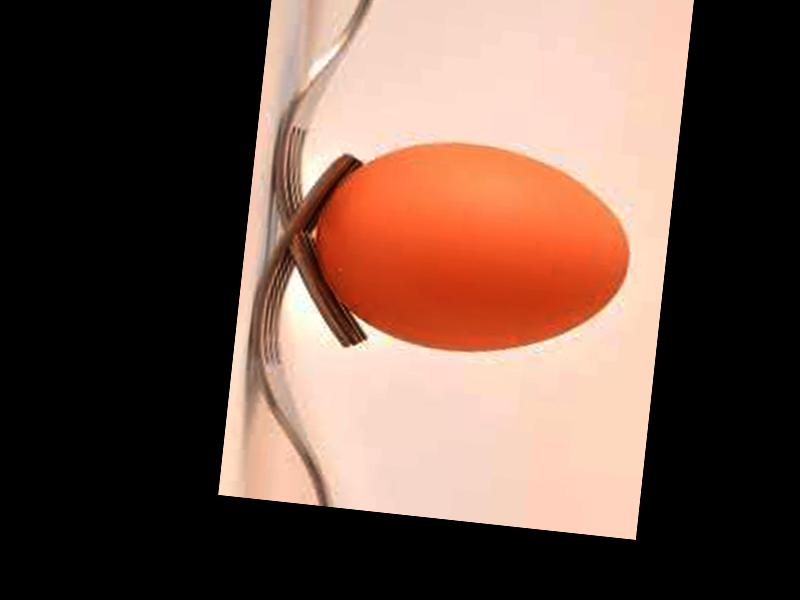Eggs: (305, 128, 638, 367)
